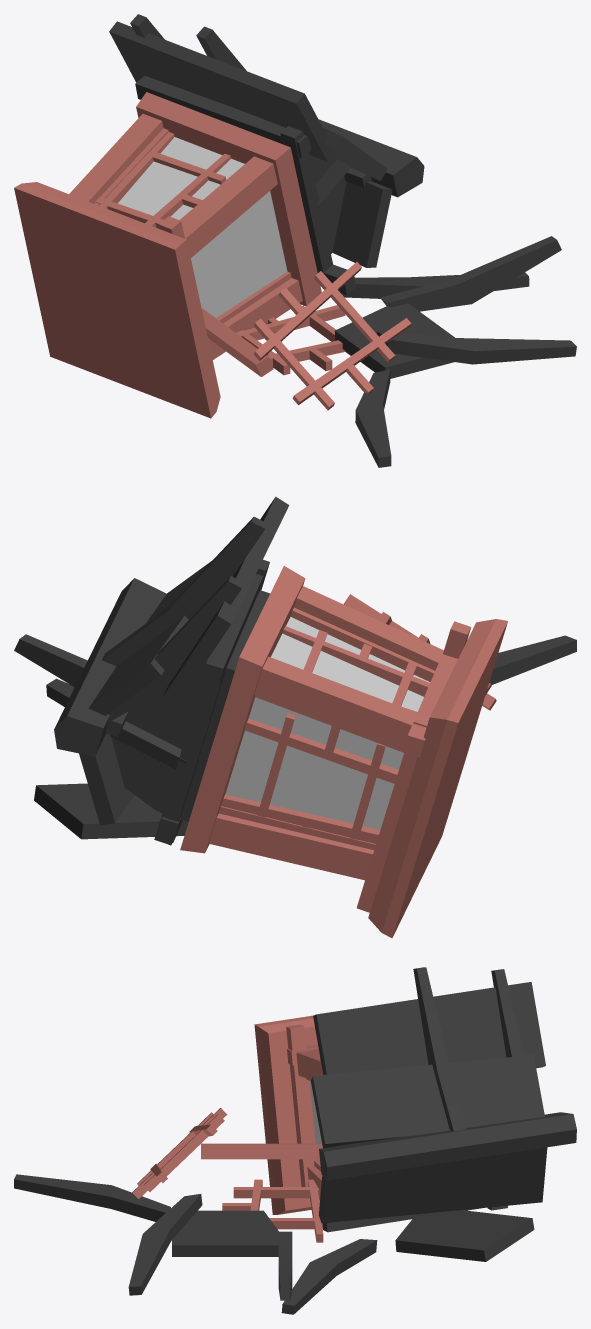
File: Broken_Light_Head.fbx
3 renders of one model, top to bottom at view 1: azimuth 30°, elevation 25°; view 2: azimuth 150°, elevation 25°; view 3: azimuth 270°, elevation 25°, orthographic. The views are drawn at different scales.
Visible parts, largest first — view 1: group31; view 2: group31; view 3: group31.
Boxes of the visible parts, bbox=[...] form: group31: bbox=[14, 14, 576, 467]; group31: bbox=[14, 496, 576, 937]; group31: bbox=[14, 967, 576, 1314].
Bounding box in the file's own units: 466 × 301 × 544.
